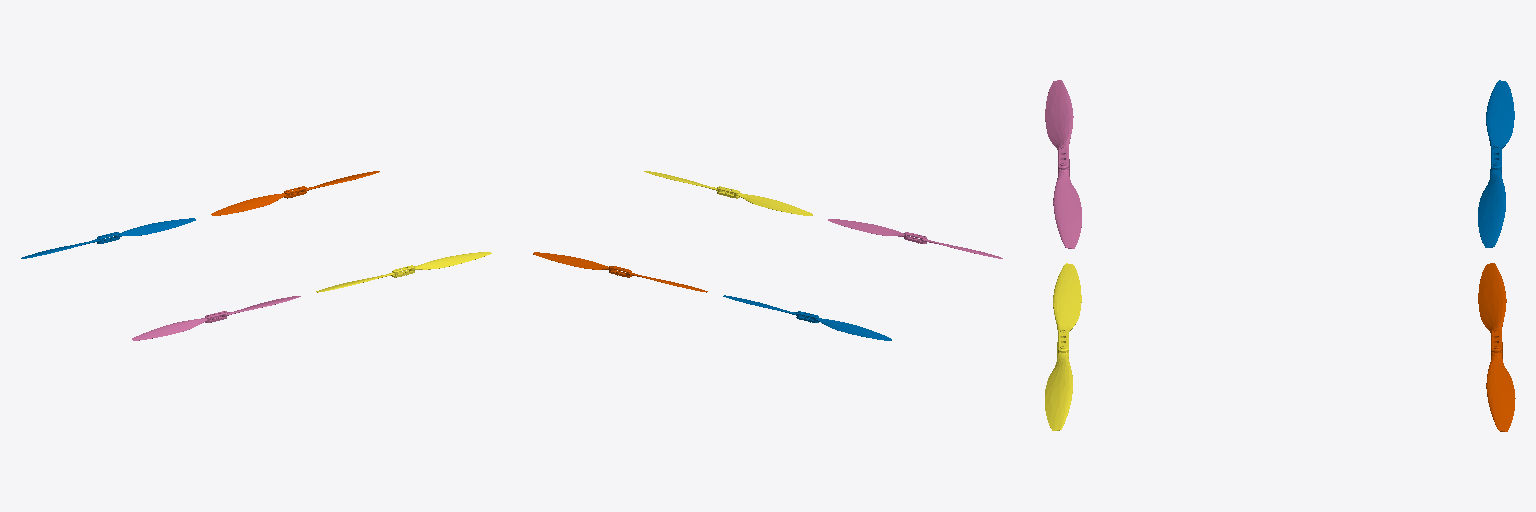
URDF robot description (p600_2):
<?xml version="1.0" ?>
<robot name="p600_2">
  <joint name="p600__imu_joint" type="fixed">
    <parent link="p600__base_link"/>
    <child link="p600__imu_link"/>
    <origin xyz="0 0 0.205" rpy="0 0 0"/>
    <axis xyz="1 0 0"/>
    <limit lower="0.0" upper="0.0" effort="0.0" velocity="0.0"/>
  </joint>
  <joint name="p600__rotor_0_joint" type="continuous">
    <parent link="p600__base_link"/>
    <child link="p600__rotor_0"/>
    <origin xyz="0.21213 -0.21213  0.243" rpy="0 0 0"/>
    <axis xyz="0 0 1"/>
  </joint>
  <joint name="p600__rotor_1_joint" type="continuous">
    <parent link="p600__base_link"/>
    <child link="p600__rotor_1"/>
    <origin xyz="-0.21213  0.21213  0.243" rpy="0 0 0"/>
    <axis xyz="0 0 1"/>
  </joint>
  <joint name="p600__rotor_2_joint" type="continuous">
    <parent link="p600__base_link"/>
    <child link="p600__rotor_2"/>
    <origin xyz="0.21213 0.21213 0.243" rpy="0 0 0"/>
    <axis xyz="0 0 1"/>
  </joint>
  <joint name="p600__rotor_3_joint" type="continuous">
    <parent link="p600__base_link"/>
    <child link="p600__rotor_3"/>
    <origin xyz="-0.21213 -0.21213  0.243" rpy="0 0 0"/>
    <axis xyz="0 0 1"/>
  </joint>

  <joint name="p600__world_joint" type="fixed">
    <parent link="world"/>
    <child link="p600__base_link"/>
    <origin xyz="0 0 0" rpy="0 0 0"/>
  </joint>
  
  <link name="world"/>
  
  <link name="p600__base_link">
    <inertial>
      <mass value="3.0"/>
      <origin xyz="-0.015 0 0.175" rpy="0 0 0"/>
      <inertia ixx="0.05487" ixy="0" ixz="0" iyy="0.05487" iyz="0" izz="0.1027"/>
    </inertial>
    <collision name="p600__base_link_inertia_collision">
      <origin xyz="0 0 0" rpy="0 0 0"/>
      <geometry>
        <mesh filename="meshes/p600_lq.stl" scale="1 1 1"/>
      </geometry>
    </collision>

  </link>
  <link name="p600__imu_link">
    <inertial>
      <mass value="0.015"/>
      <origin xyz="0 0 0" rpy="0 0 0"/>
      <inertia ixx="1e-05" ixy="0" ixz="0" iyy="1e-05" iyz="0" izz="1e-05"/>
    </inertial>
  </link>
  <link name="p600__rotor_0">
    <inertial>
      <mass value="0.005"/>
      <origin xyz="0 0 0" rpy="0 0 0"/>
      <inertia ixx="9.75e-07" ixy="0" ixz="0" iyy="0.000273104" iyz="0" izz="0.000274004"/>
    </inertial>
    <collision name="p600__rotor_0_collision">
      <origin xyz="0 0 0" rpy="0 0 0"/>
      <geometry>
        <cylinder radius="0.128" length="0.005"/>
      </geometry>
    </collision>
    <visual name="p600__rotor_0_visual">
      <origin xyz="0 0 0" rpy="0 0 0"/>
      <geometry>
        <mesh filename="meshes/p600_ccw_lq.stl" scale="1 1 1"/>
      </geometry>
    </visual>
  </link>
  <link name="p600__rotor_1">
    <inertial>
      <mass value="0.005"/>
      <origin xyz="0 0 0" rpy="0 0 0"/>
      <inertia ixx="9.75e-07" ixy="0" ixz="0" iyy="0.000273104" iyz="0" izz="0.000274004"/>
    </inertial>
    <collision name="p600__rotor_1_collision">
      <origin xyz="0 0 0" rpy="0 0 0"/>
      <geometry>
        <cylinder radius="0.128" length="0.005"/>
      </geometry>
    </collision>
    <visual name="p600__rotor_1_visual">
      <origin xyz="0 0 0" rpy="0 0 0"/>
      <geometry>
        <mesh filename="meshes/p600_ccw_lq.stl" scale="1 1 1"/>
      </geometry>
    </visual>
  </link>
  <link name="p600__rotor_2">
    <inertial>
      <mass value="0.005"/>
      <origin xyz="0 0 0" rpy="0 0 0"/>
      <inertia ixx="9.75e-07" ixy="0" ixz="0" iyy="0.000273104" iyz="0" izz="0.000274004"/>
    </inertial>
    <collision name="p600__rotor_2_collision">
      <origin xyz="0 0 0" rpy="0 0 0"/>
      <geometry>
        <cylinder radius="0.128" length="0.005"/>
      </geometry>
    </collision>
    <visual name="p600__rotor_2_visual">
      <origin xyz="0 0 0" rpy="0 0 0"/>
      <geometry>
        <mesh filename="meshes/p600_cw_lq.stl" scale="1 1 1"/>
      </geometry>
    </visual>
  </link>
  <link name="p600__rotor_3">
    <inertial>
      <mass value="0.005"/>
      <origin xyz="0 0 0" rpy="0 0 0"/>
      <inertia ixx="9.75e-07" ixy="0" ixz="0" iyy="0.000273104" iyz="0" izz="0.000274004"/>
    </inertial>
    <collision name="p600__rotor_3_collision">
      <origin xyz="0 0 0" rpy="0 0 0"/>
      <geometry>
        <cylinder radius="0.128" length="0.005"/>
      </geometry>
    </collision>
    <visual name="p600__rotor_3_visual">
      <origin xyz="0 0 0" rpy="0 0 0"/>
      <geometry>
        <mesh filename="meshes/p600_cw_lq.stl" scale="1 1 1"/>
      </geometry>
    </visual>
  </link>
</robot>

--- What the picture shows (computed from the rendered views, not written in the file) ---
The picture shows the robot from 3 angles, left to right: view 1: azimuth 30°, elevation 25°; view 2: azimuth 150°, elevation 25°; view 3: azimuth 270°, elevation 25°; orthographic projection.
Robot: p600_2 — 7 links, 6 joints (4 continuous, 2 fixed); root link world; default pose: every joint at zero.
Visible links, largest first — view 1: p600__rotor_2, p600__rotor_3, p600__rotor_0, p600__rotor_1; view 2: p600__rotor_0, p600__rotor_1, p600__rotor_2, p600__rotor_3; view 3: p600__rotor_3, p600__rotor_2, p600__rotor_0, p600__rotor_1.
Link boxes in pixels (left/top/right/bottom): p600__rotor_2: left=211, top=171, right=379, bottom=215; p600__rotor_3: left=132, top=296, right=300, bottom=340; p600__rotor_0: left=316, top=252, right=491, bottom=292; p600__rotor_1: left=21, top=218, right=195, bottom=258; p600__rotor_0: left=644, top=171, right=812, bottom=215; p600__rotor_1: left=723, top=295, right=891, bottom=340; p600__rotor_2: left=533, top=252, right=707, bottom=292; p600__rotor_3: left=828, top=219, right=1002, bottom=258; p600__rotor_3: left=1045, top=80, right=1081, bottom=248; p600__rotor_2: left=1478, top=263, right=1515, bottom=431; p600__rotor_0: left=1045, top=263, right=1081, bottom=430; p600__rotor_1: left=1478, top=80, right=1514, bottom=247.
Size in the robot's own frame: 0.8123 by 0.4615 by 0.0176 metres.
4 mesh visuals loaded from 2 distinct referenced files (2 binary STL).